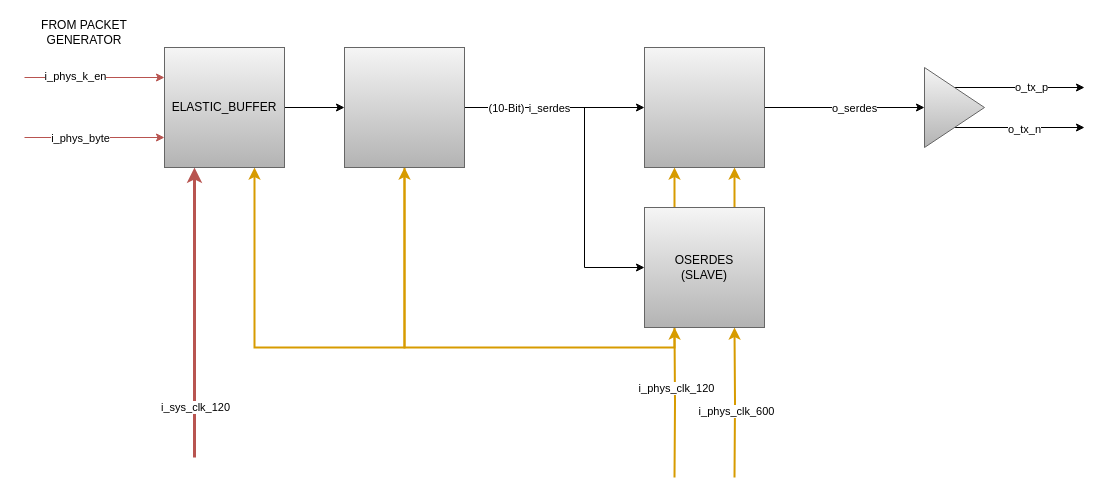
The diagram is 1110 pixels wide and 503 high, and some of its shapes have lost their labels. The box of each missing label's shape, as (x1, y1, x2, y2) in pixels:
8B10B-ENCODER: (344, 46, 464, 168)
OSERDES (MASTER): (644, 46, 764, 168)
